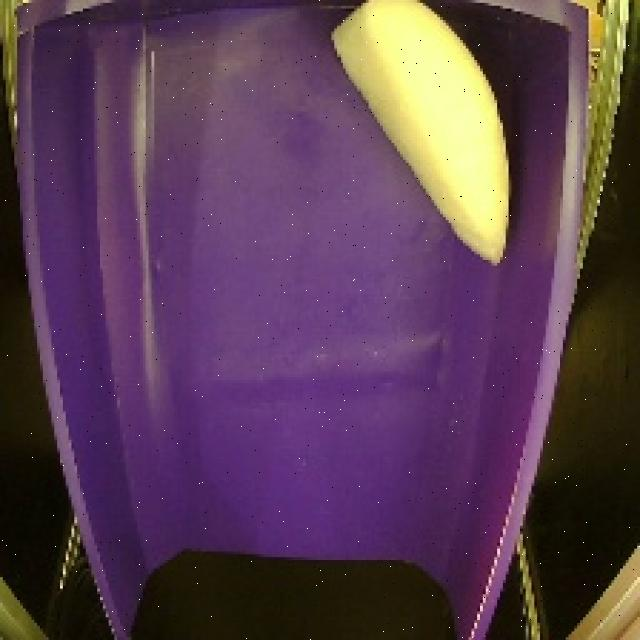white_radish: (320, 0, 523, 275)
